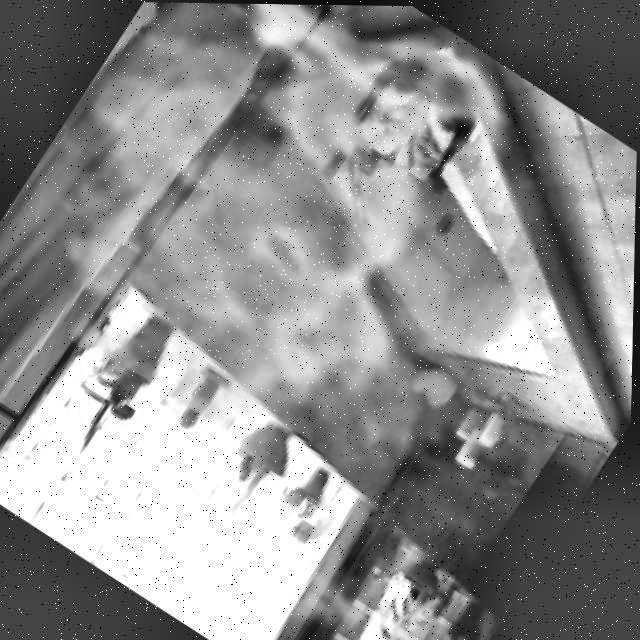Smoke: (0, 2, 637, 640)
